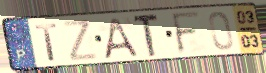0: (207, 10, 235, 52)
A: (102, 16, 140, 60)
F: (170, 10, 203, 56)
T: (132, 12, 161, 59), (33, 22, 60, 63)
Z: (61, 18, 100, 63)
